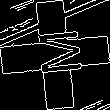M_W: (27, 29, 83, 81)
